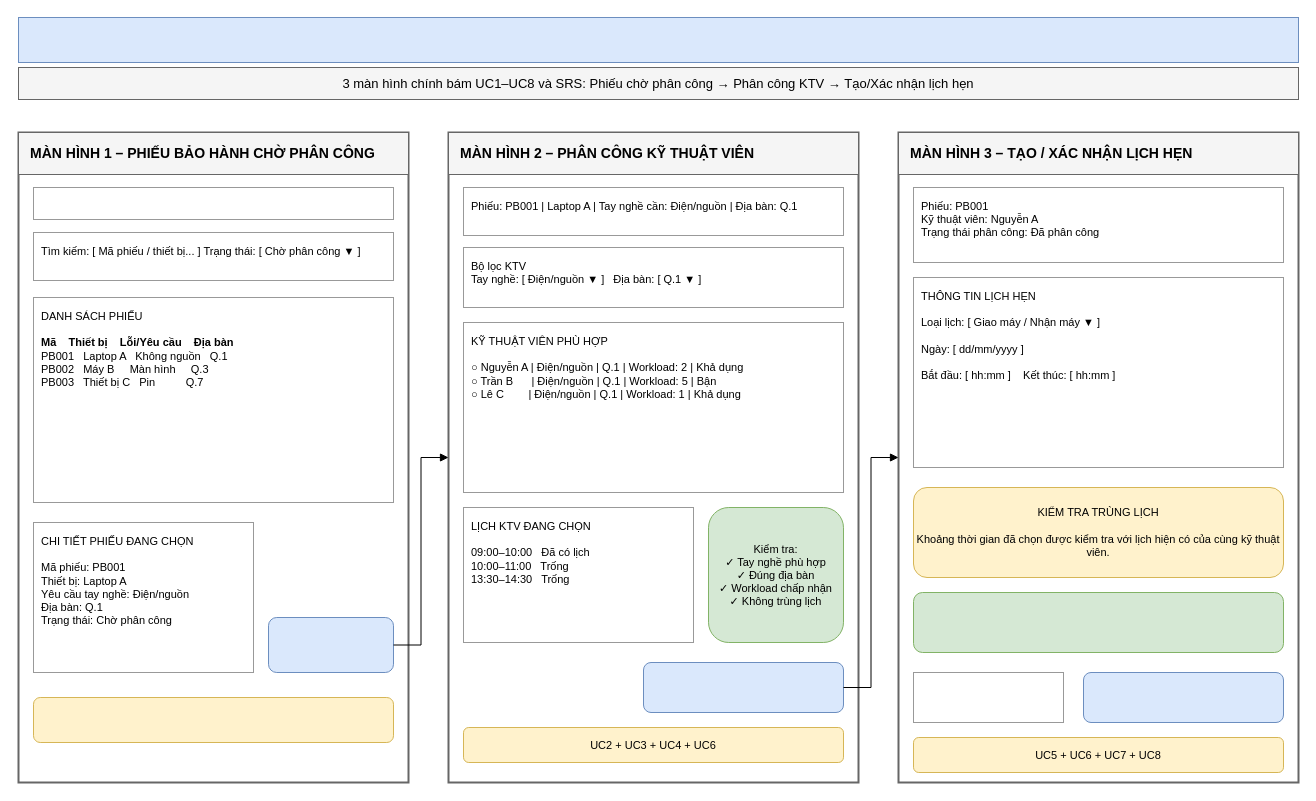
This 1316x801 diagram has some shape labels left out. The centre of each missing label's shape, as x and y in pixels:
CHỌN KỸ THUẬT VIÊN →: the point at 331,644
L4 Warranty Scheduling Nhân viên điều phối: the point at 213,203
UC1: xem phiếu cần phân công: the point at 213,719
WIREFRAME – L4: PHÂN CÔNG KỸ THUẬT VIÊN & LỊCH HẸN: the point at 658,39
Xem danh sách lịch hẹn đã tạo: the point at 988,697
XÁC NHẬN LỊCH HẸN: the point at 1183,697
XÁC NHẬN PHÂN CÔNG: the point at 743,687
✓ Không phát hiện trùng lịch ✓ Dữ liệu bắt buộc hợp lệ: the point at 1098,622
